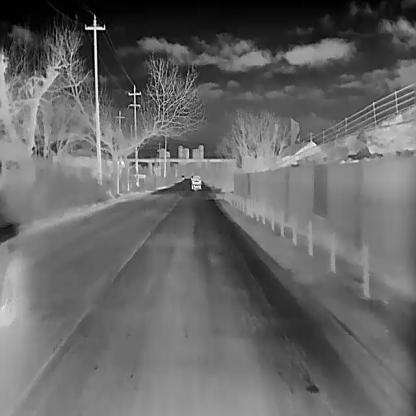car: (190, 174, 201, 189)
